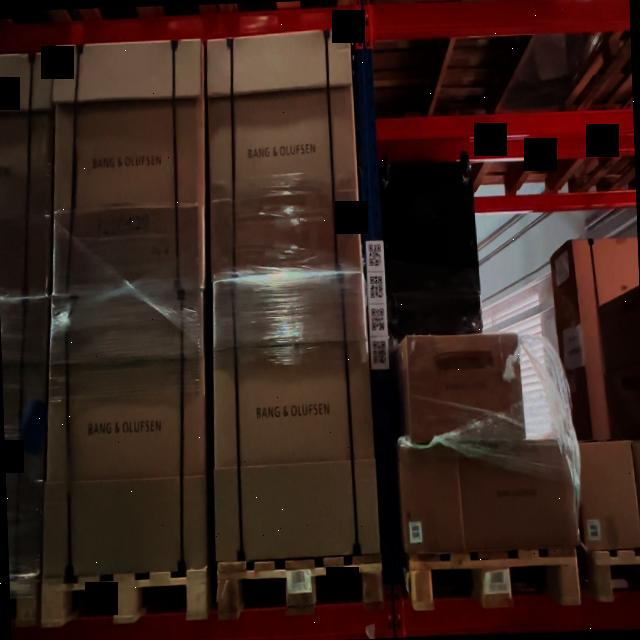box: (213, 272, 380, 561), (42, 293, 207, 578), (51, 38, 206, 294), (206, 27, 360, 277), (406, 332, 526, 447), (458, 442, 578, 551), (399, 443, 466, 555), (578, 440, 640, 550)
